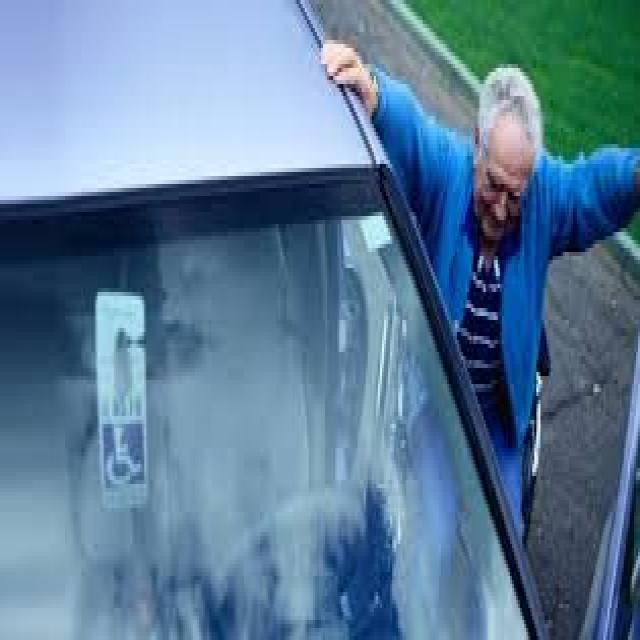car-handicap-placard: (106, 426, 144, 483)
